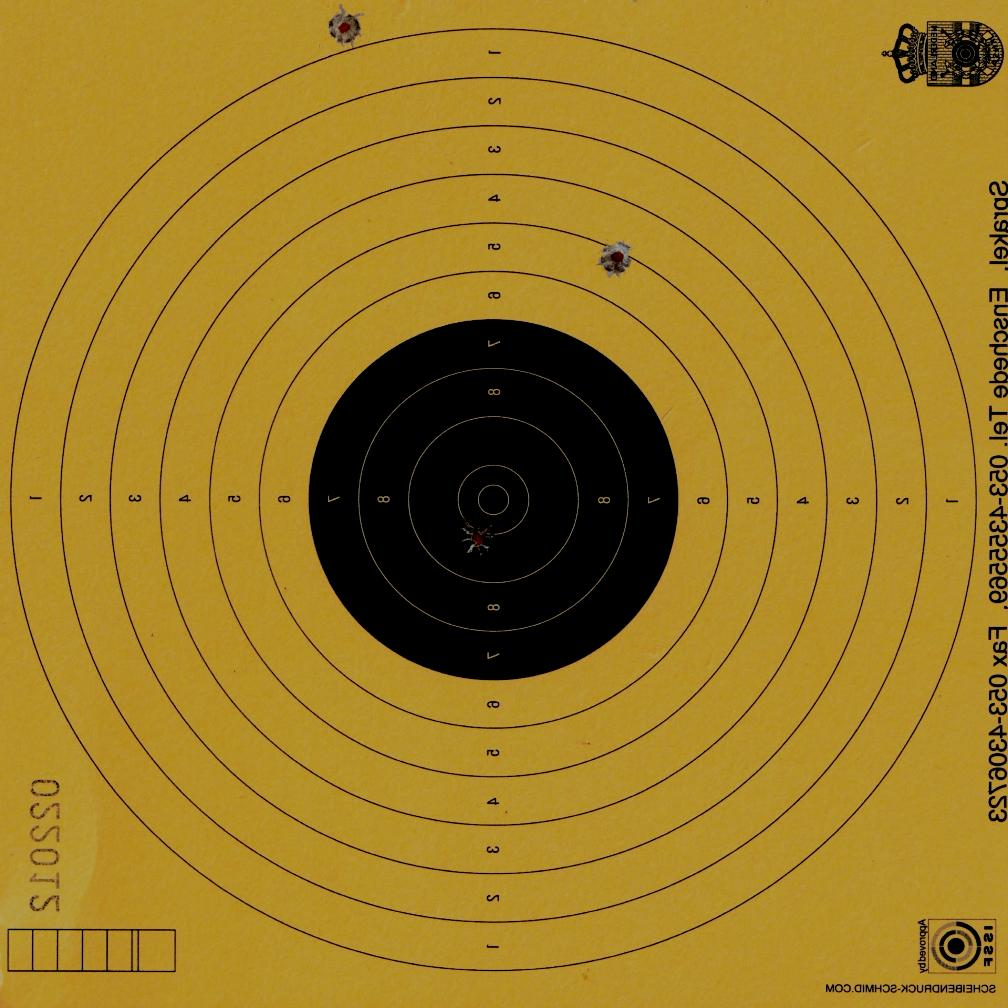0: (324, 7, 362, 48)
10: (458, 520, 496, 554)
5: (596, 242, 634, 278)
Target: (4, 26, 981, 978)
black_contour: (309, 319, 677, 682)
